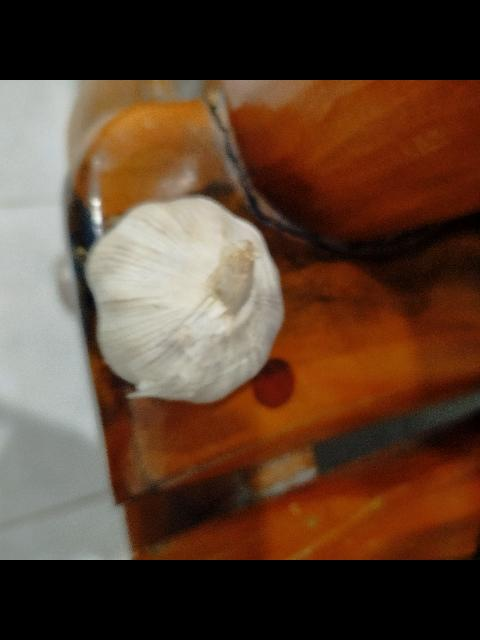garlic: (82, 194, 284, 404)
